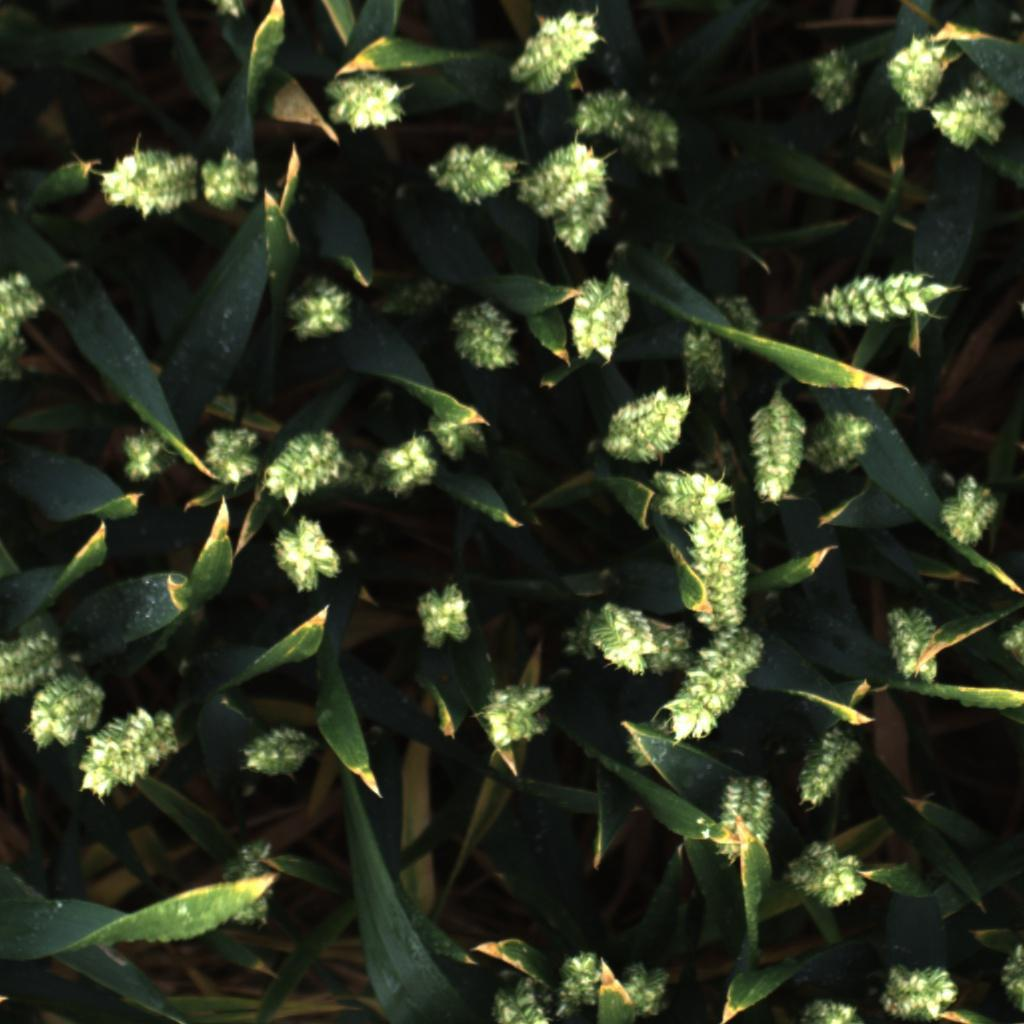0-0: (665, 632, 764, 750), (562, 600, 692, 689), (679, 509, 769, 630), (809, 266, 952, 336), (72, 708, 177, 801), (508, 5, 601, 100), (95, 137, 198, 219), (516, 137, 605, 224), (422, 133, 519, 209), (602, 384, 693, 464), (205, 833, 280, 929), (745, 398, 810, 505), (25, 671, 110, 750), (563, 75, 649, 151), (568, 274, 641, 362), (268, 516, 346, 597), (268, 428, 349, 506), (475, 680, 556, 753), (788, 844, 872, 914), (323, 71, 414, 135), (716, 771, 776, 868), (448, 304, 527, 377), (409, 403, 494, 469), (0, 629, 68, 707), (931, 83, 1010, 150), (882, 33, 946, 114), (371, 431, 444, 502), (653, 461, 735, 524), (408, 583, 478, 656), (285, 280, 361, 347), (883, 960, 962, 1024), (796, 730, 860, 809), (937, 469, 1001, 548), (805, 44, 868, 123), (806, 410, 880, 477), (236, 724, 317, 785), (196, 145, 266, 215), (885, 601, 946, 681), (618, 105, 693, 169), (677, 320, 734, 400), (552, 190, 619, 254), (207, 418, 265, 491), (615, 961, 685, 1019), (374, 269, 450, 322), (0, 268, 41, 362), (116, 422, 173, 489), (554, 949, 608, 1016), (490, 978, 553, 1024), (712, 291, 761, 341), (994, 940, 1024, 1014), (797, 998, 869, 1024), (998, 616, 1024, 666)
